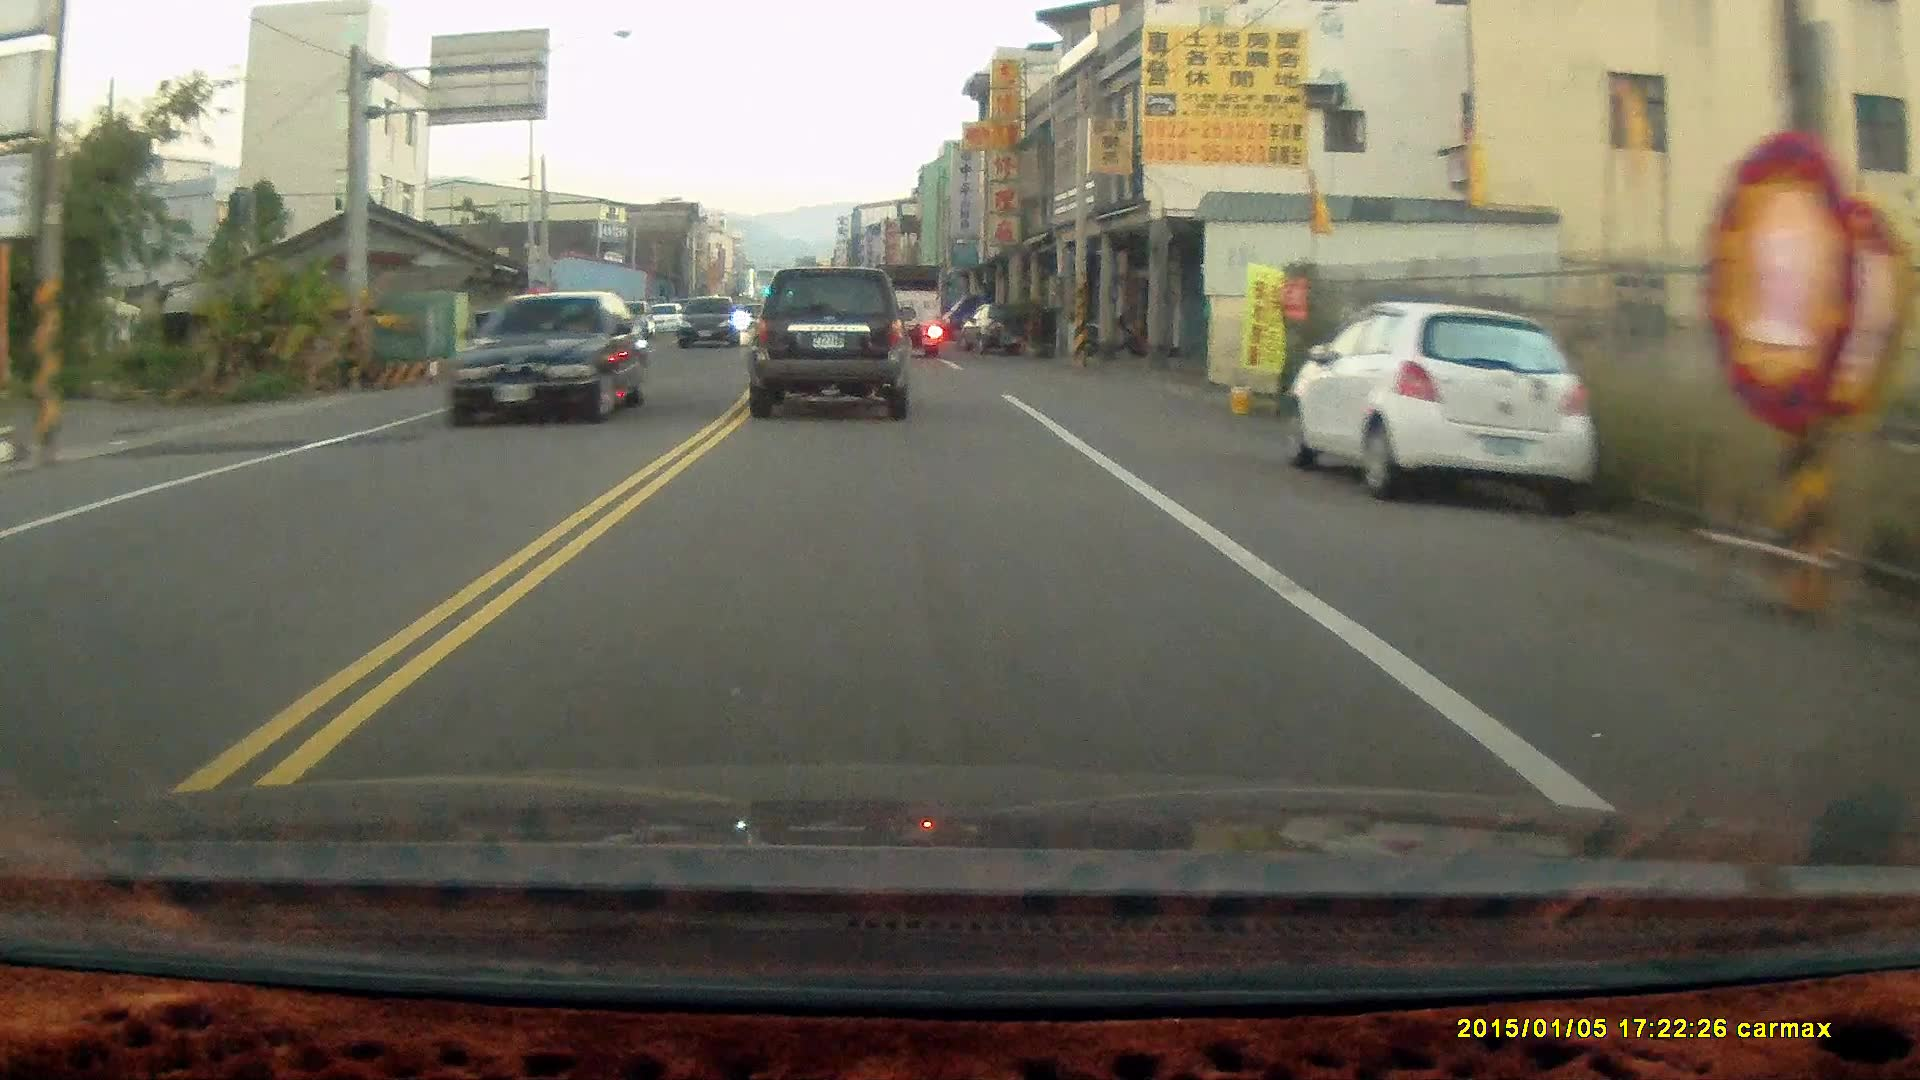vehicle: (1288, 302, 1596, 516), (434, 289, 651, 433), (745, 266, 918, 423), (872, 262, 949, 360), (678, 297, 746, 353)
